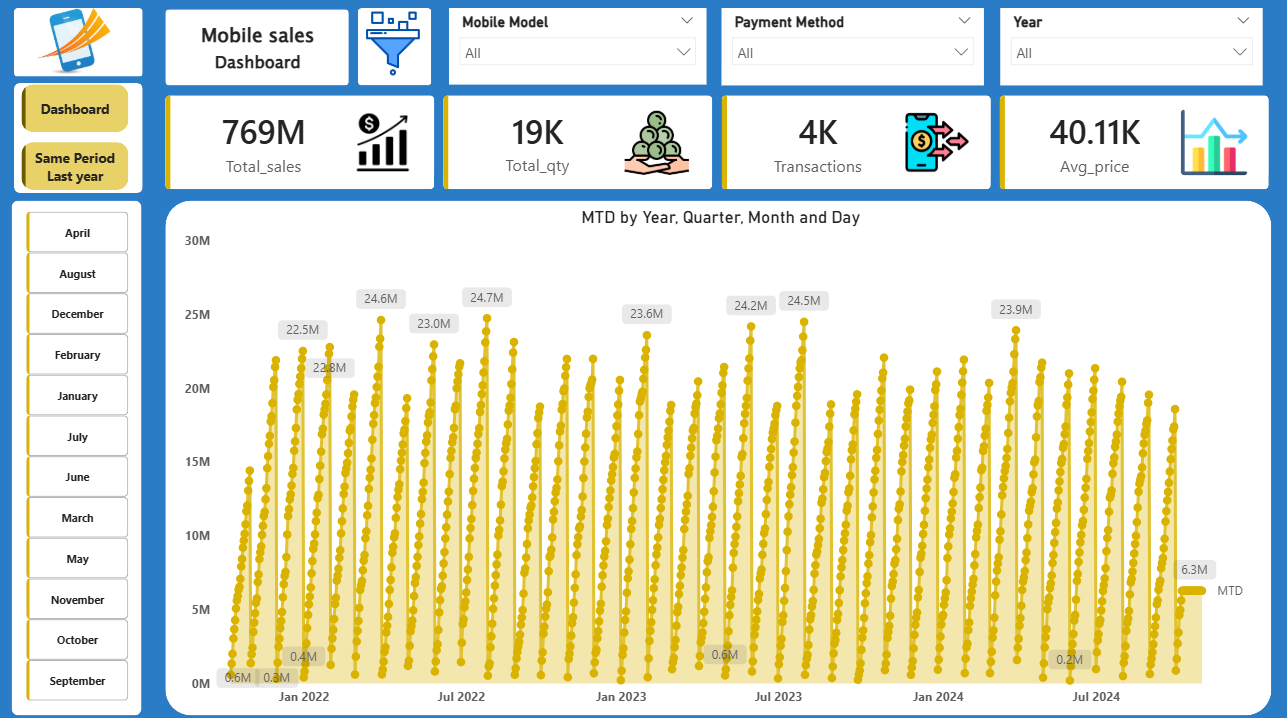

What the dashboard file says about the page in this screenshot:
{"tool":"powerbi","page":{"name":"MTD report","canvas":[1280,720],"ordinal":1},"visuals":[{"type":"shape","box":[17.2,177.9,127.6,528.8],"z":0},{"type":"advancedSlicerVisual","fields":{"Values":["Custom calender.Month Name"]},"box":[27.6,184.7,110.3,514],"z":1000},{"type":"slicer","fields":{"Values":["Sales.Mobile Model"]},"box":[446.6,14.7,252.8,74.8],"z":2000},{"type":"slicer","fields":{"Values":["Sales.Payment Method"]},"box":[714.1,14.7,257.7,76.1],"z":3000},{"type":"slicer","fields":{"Values":["Custom calender.Date.Variation.Date Hierarchy.Year"]},"box":[987.7,14.7,257.7,76.1],"z":4000},{"type":"shape","box":[168.1,16,180.4,74.8],"z":5000},{"type":"shape","box":[356.8,15.1,72.7,74.1],"z":6000},{"type":"shape","box":[19.2,90.6,124.9,83.7],"z":7000},{"type":"shape","box":[19.6,14.7,126.4,67.5],"z":8000},{"type":"textbox","box":[181.6,22.1,154.6,66.3],"z":9000},{"type":"shape","box":[168.1,203.7,1085.9,495.7],"z":10000},{"type":"areaChart","fields":{"Category":["Custom calender.Date.Variation.Date Hierarchy.Year","Custom calender.Date.Variation.Date Hierarchy.Quarter","Custom calender.Date.Variation.Date Hierarchy.Month","Custom calender.Date.Variation.Date Hierarchy.Day"],"Y":["Sales.MTD"]},"box":[181.6,209.8,1063.8,481],"z":11000},{"type":"cardVisual","fields":{"Data":["Sales.Total_sales","Sales.Total_qty","Sales.Transactions","Sales.Avg_price"]},"box":[168.1,100.6,1085.9,93.3],"z":12000},{"type":"image","box":[344.8,17.2,93.3,65],"z":13000},{"type":"actionButton","title":"Same Period Last Year","box":[33.1,131.3,96.9,36.8],"z":14000},{"type":"actionButton","title":"Dashboard","box":[31.9,100.6,99.4,19.6],"z":15000},{"type":"image","box":[28.2,17.2,101.8,65],"z":16000}]}

Visuals, with their boxes in screenshot pixels (x1, y1, x2, y2), scaled from the page's 1280x720 canvas onto the 1287x718 screenshot:
shape: (x1=17, y1=177, x2=146, y2=705)
advancedSlicerVisual - Custom calender.Month Name: (x1=28, y1=184, x2=139, y2=697)
slicer - Sales.Mobile Model: (x1=449, y1=15, x2=703, y2=89)
slicer - Sales.Payment Method: (x1=718, y1=15, x2=977, y2=91)
slicer - Custom calender.Date.Variation.Date Hierarchy.Year: (x1=993, y1=15, x2=1252, y2=91)
shape: (x1=169, y1=16, x2=350, y2=91)
shape: (x1=359, y1=15, x2=432, y2=89)
shape: (x1=19, y1=90, x2=145, y2=174)
shape: (x1=20, y1=15, x2=147, y2=82)
textbox: (x1=183, y1=22, x2=338, y2=88)
shape: (x1=169, y1=203, x2=1261, y2=697)
areaChart - Custom calender.Date.Variation.Date Hierarchy.Year x Custom calender.Date.Variation.Date Hierarchy.Quarter: (x1=183, y1=209, x2=1252, y2=689)
cardVisual - Sales.Total_sales x Sales.Total_qty: (x1=169, y1=100, x2=1261, y2=193)
image: (x1=347, y1=17, x2=440, y2=82)
"Same Period Last Year" actionButton: (x1=33, y1=131, x2=131, y2=168)
"Dashboard" actionButton: (x1=32, y1=100, x2=132, y2=120)
image: (x1=28, y1=17, x2=131, y2=82)
